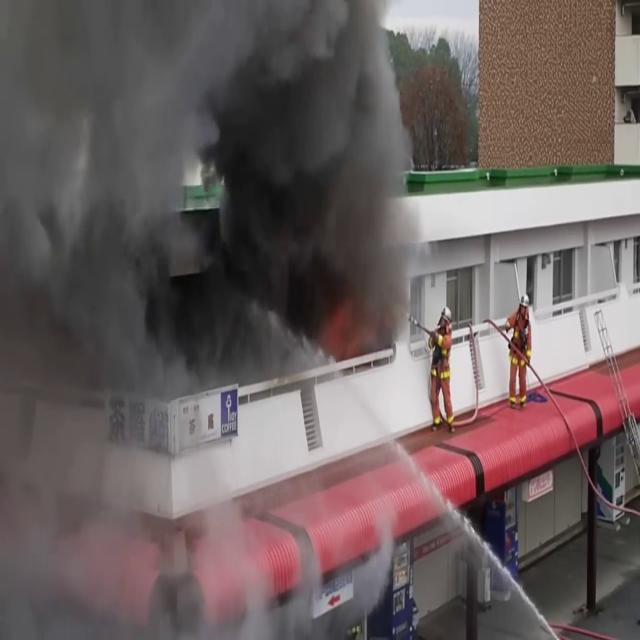Smoke: (0, 0, 430, 378)
